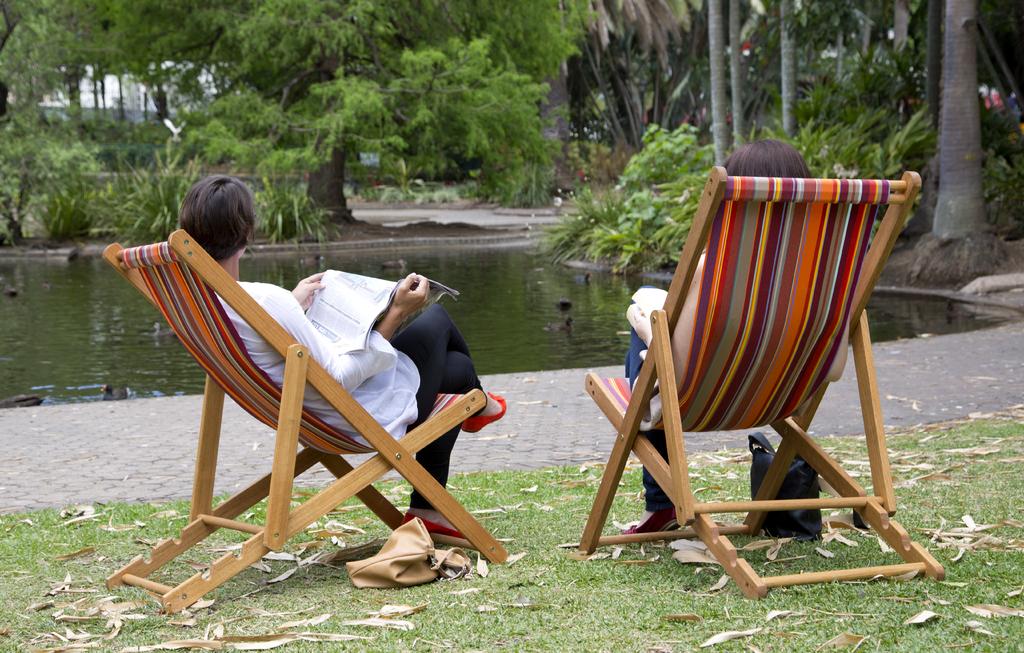Tree: (0, 0, 1024, 286)
